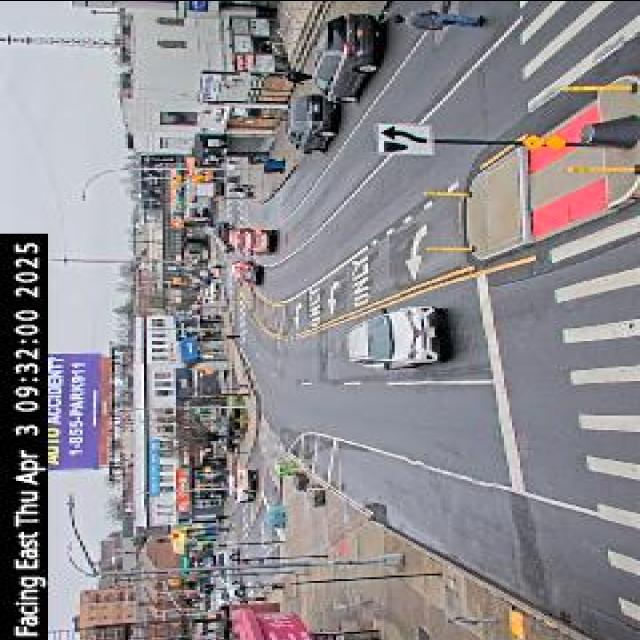open parking: (269, 148, 317, 192)
parkedCars: (274, 8, 400, 156)
